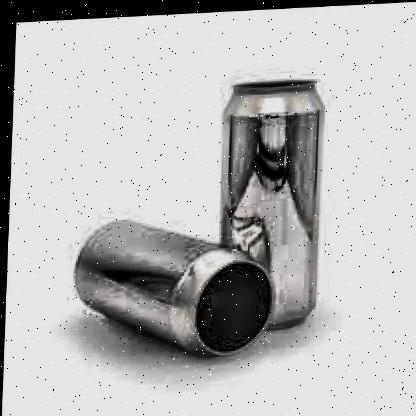Can: (73, 218, 275, 360), (220, 74, 324, 332)
